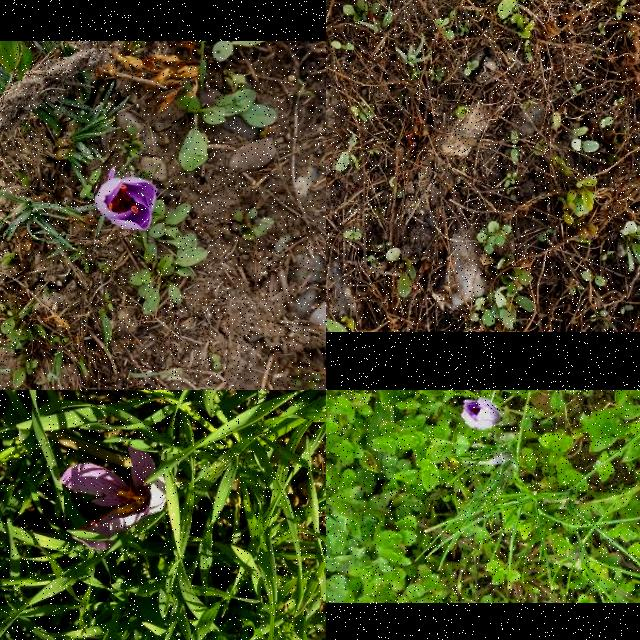flower: (58, 444, 165, 548), (96, 178, 156, 230), (461, 400, 501, 430)
